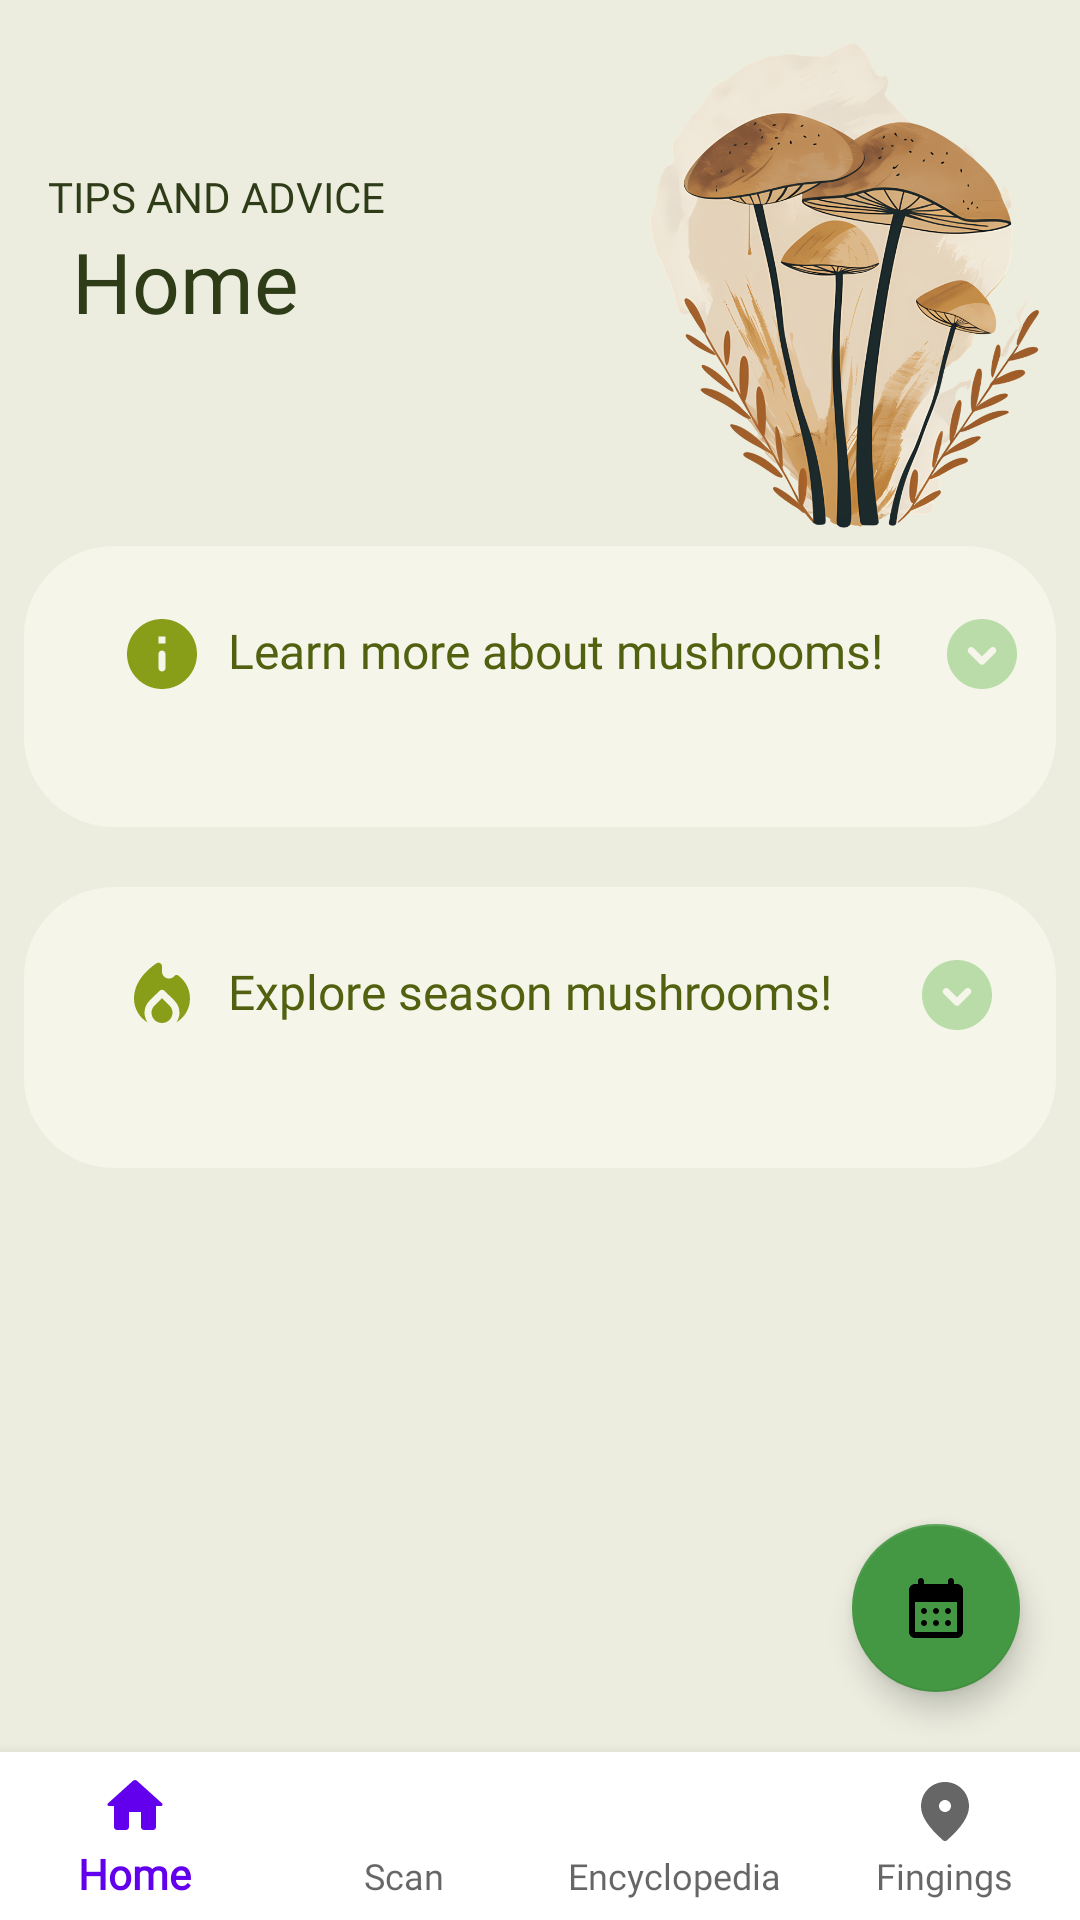

Named icons in this screenshot (1080x1920) and their centers, (x,y):
calendar month: (936,1608)
info: (162,654)
local fire department: (162,992)
